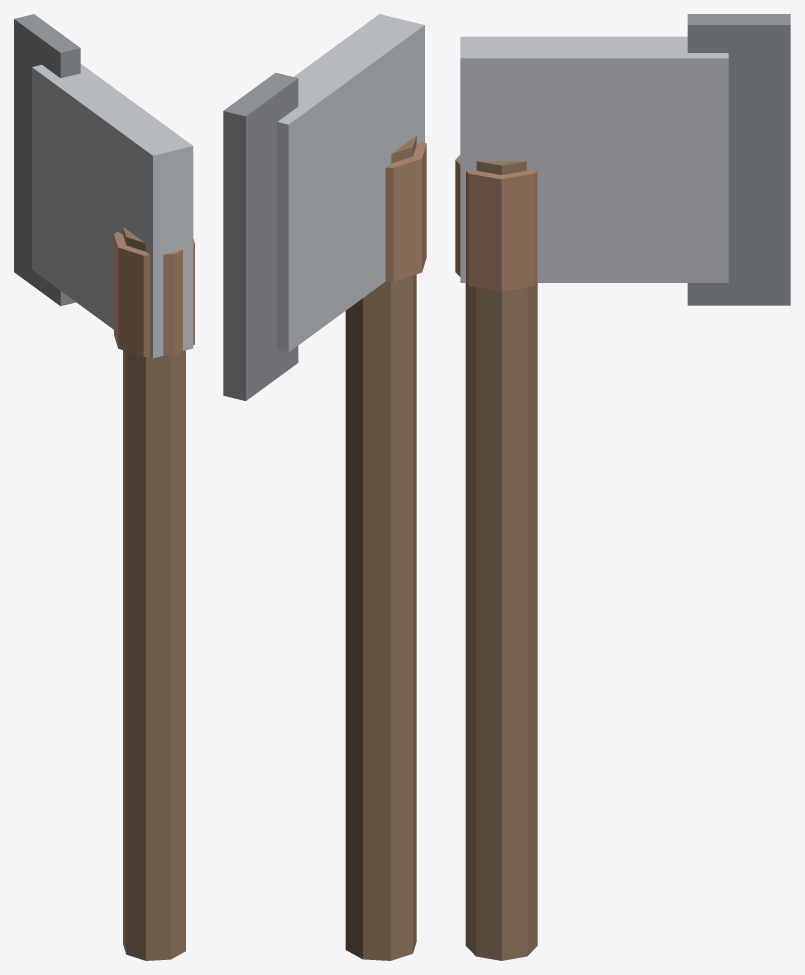
The model's file is metal_hatchet.glb.
3 views of the same model, side by side, from view 1: azimuth 30°, elevation 25°; view 2: azimuth 150°, elevation 25°; view 3: azimuth 270°, elevation 25° (orthographic). The views are drawn at different scales.
Parts seen in each view (by area): view 1: metal_hatchet; view 2: metal_hatchet; view 3: metal_hatchet.
Part boxes in pixels (x1,y1,x2,y2): metal_hatchet: (14, 14, 194, 960); metal_hatchet: (223, 14, 426, 960); metal_hatchet: (455, 14, 790, 960).
Size of the model in its own units: 0.09 by 0.99 by 0.325.
